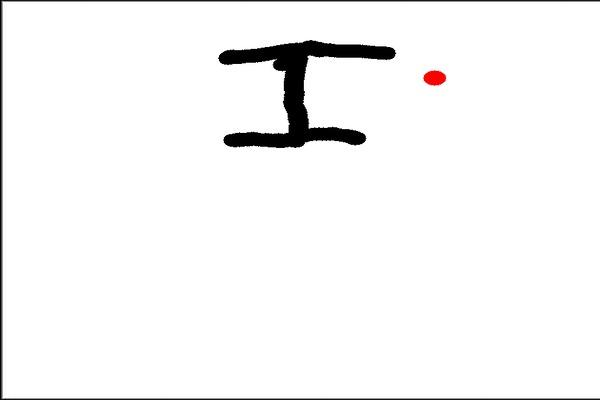i: (209, 35, 400, 155)
